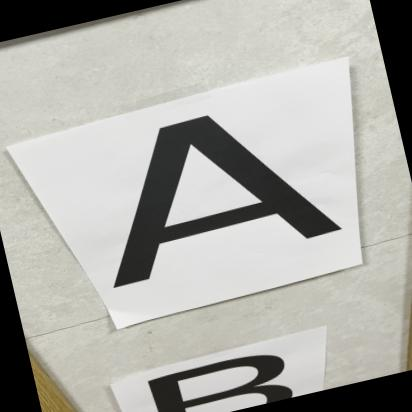seat: (69, 76, 376, 308)
